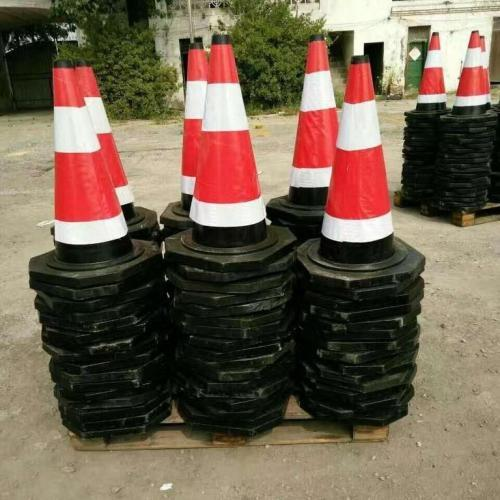cone_barrel: (35, 62, 145, 274), (311, 58, 409, 275), (180, 33, 274, 253), (273, 35, 342, 225), (174, 42, 208, 219), (450, 29, 491, 116), (413, 29, 447, 112)
